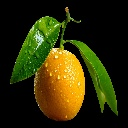orange: (32, 27, 90, 122)
